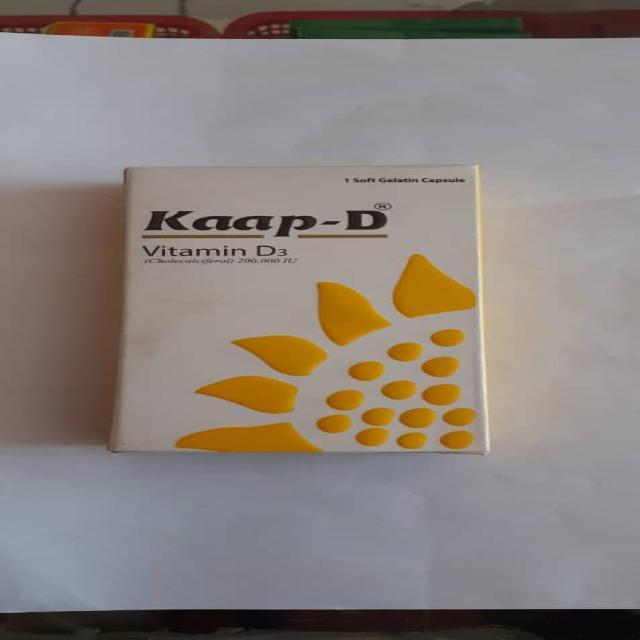drug-name: (143, 208, 386, 238)
